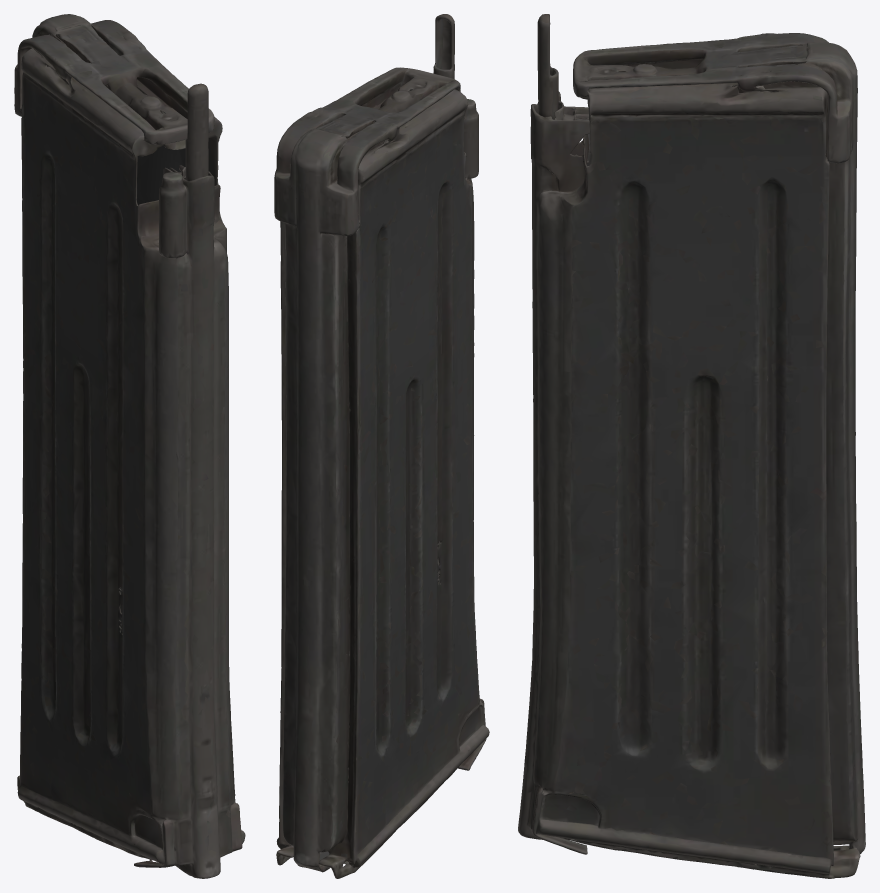
The model's file is magazine.glb.
3 views of the same model, side by side, from view 1: azimuth 30°, elevation 25°; view 2: azimuth 150°, elevation 25°; view 3: azimuth 270°, elevation 25° (orthographic). The views are drawn at different scales.
Visible parts, largest first — view 1: geometry_0; view 2: geometry_0; view 3: geometry_0.
Part boxes in pixels (<box>): geometry_0: <box>14,14,245,878</box>; geometry_0: <box>274,14,489,878</box>; geometry_0: <box>518,14,865,878</box>.
Bounding box in the file's own units: 0.1173 × 1 × 0.3733.
Materials: 1 (1 with a texture image).
